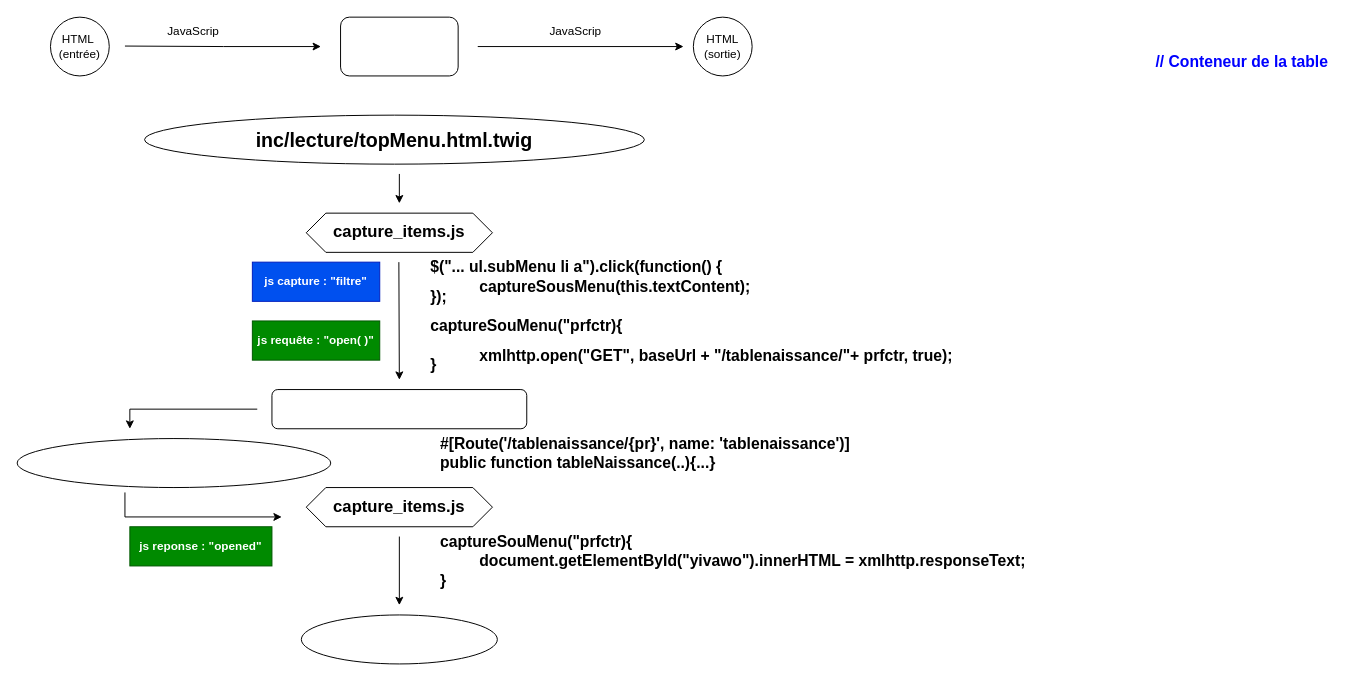
This 1367x681 diagram has some shape labels left out. The box of each missing label's shape, as (x1, y1, x2, y2) in pixels:
lecturBD.html.twig: (300, 614, 497, 664)
lire/tableNaissance.html.twig: (16, 438, 331, 488)
lireController.php: (271, 389, 527, 429)
PHP (traitement): (340, 16, 458, 76)
